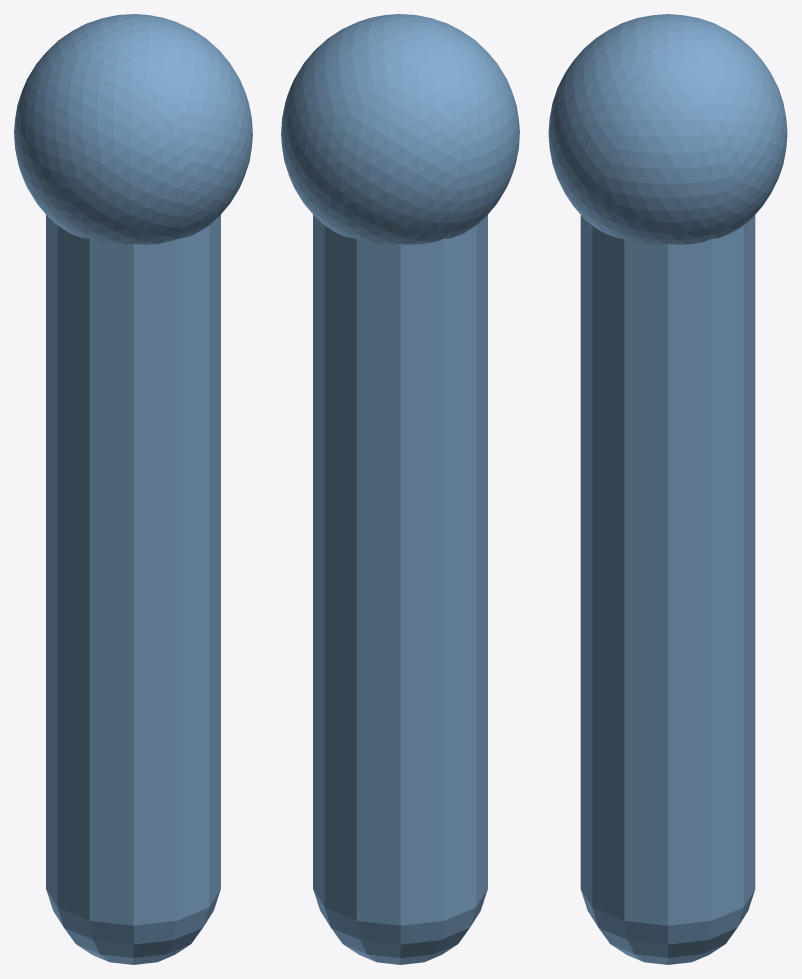
The picture shows the model from 3 angles, left to right: view 1: azimuth 30°, elevation 25°; view 2: azimuth 150°, elevation 25°; view 3: azimuth 270°, elevation 25°; orthographic projection.
Visible parts, largest first — view 1: world; view 2: world; view 3: world.
Boxes of the visible parts, x1,y1,x2,y2 form: world: (14,14,252,964); world: (281,14,519,964); world: (548,14,787,964).
Size of the model in its own units: 0.092 by 0.396 by 0.092.
